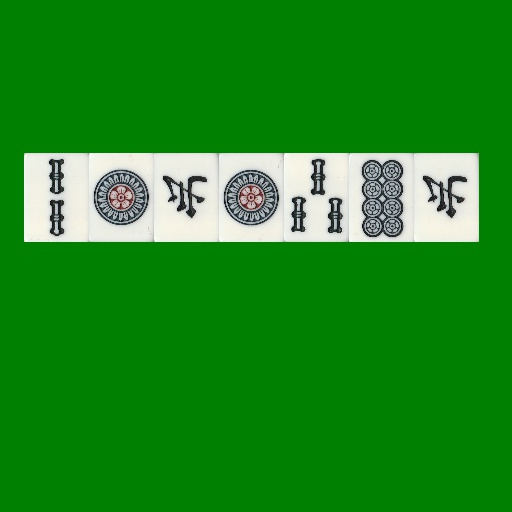1p: (89, 153, 154, 242), (219, 153, 284, 242)
2s: (24, 153, 89, 242)
3s: (284, 153, 349, 242)
8p: (349, 153, 414, 242)
north: (154, 153, 219, 242), (414, 153, 479, 242)
